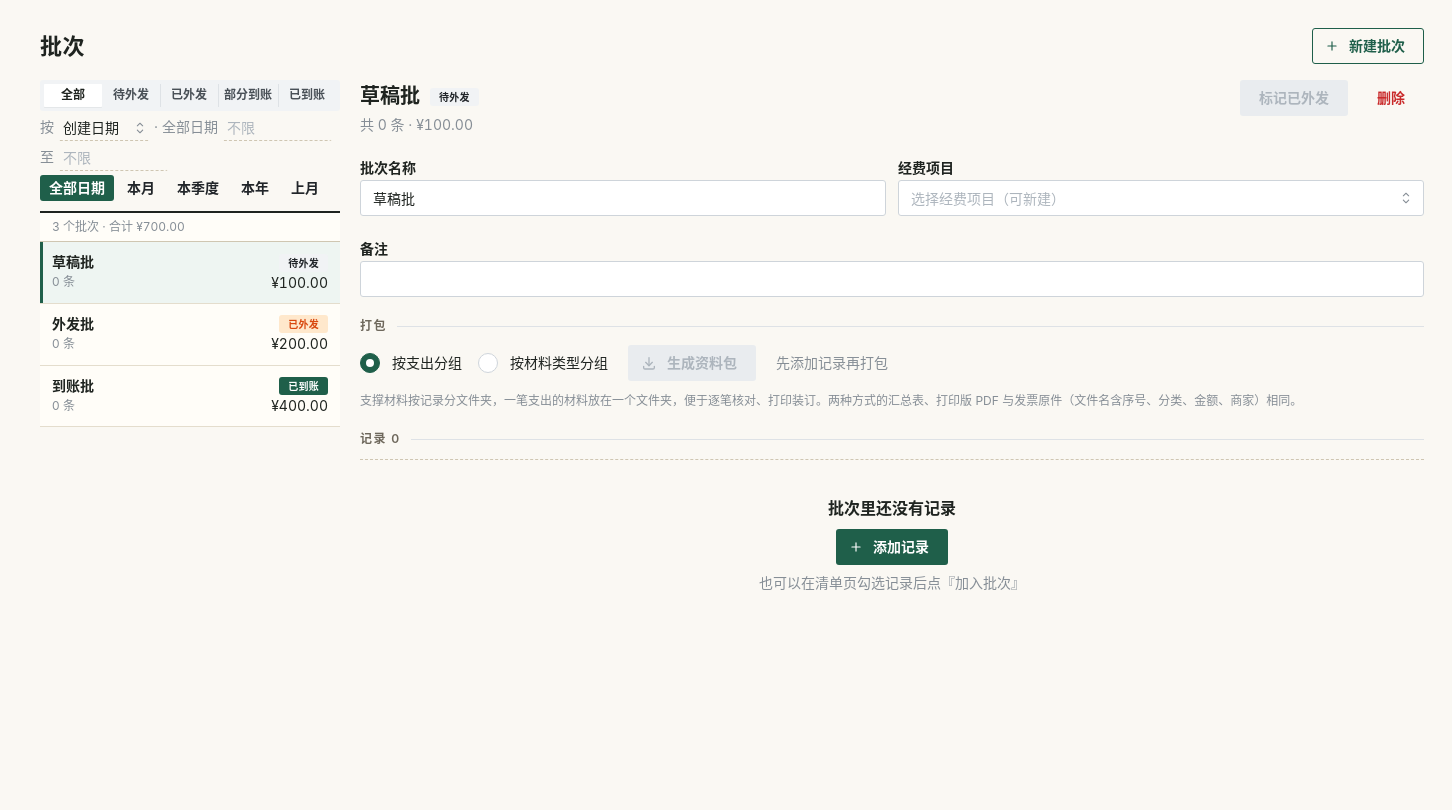
Test: BatchesPage › batch list filters › status filter narrows the list and syncs to the URL
Expected: the text "3 个批次 · 合计 ¥700.00" is shown, 52,219 -> 185,234
Click the radio button labelled "已到账": (307, 94) 289,87 -> 325,102
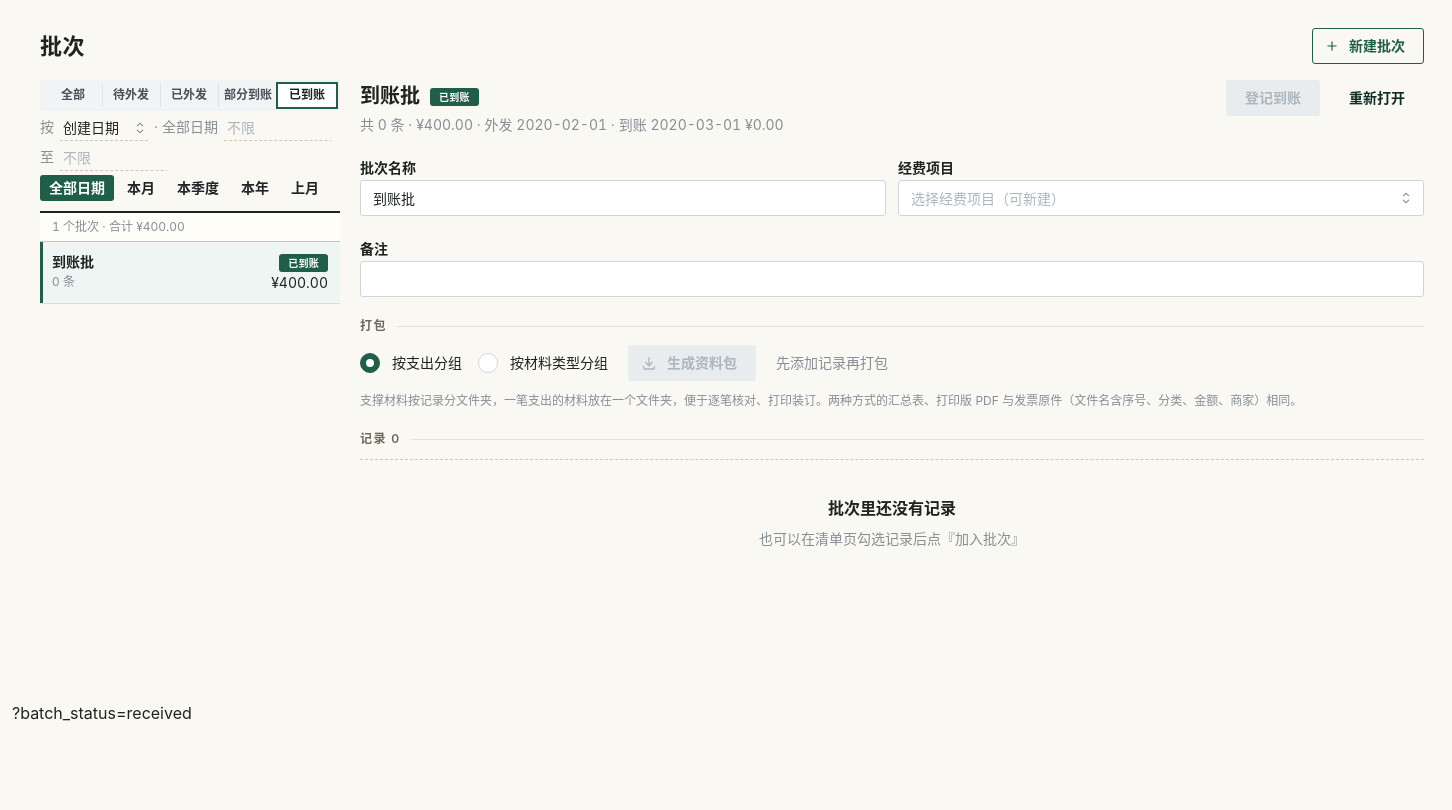
Now the text with test id "batch-list-summary" reads "1 个批次 · 合计 ¥400.00", box 52,219 -> 185,234
